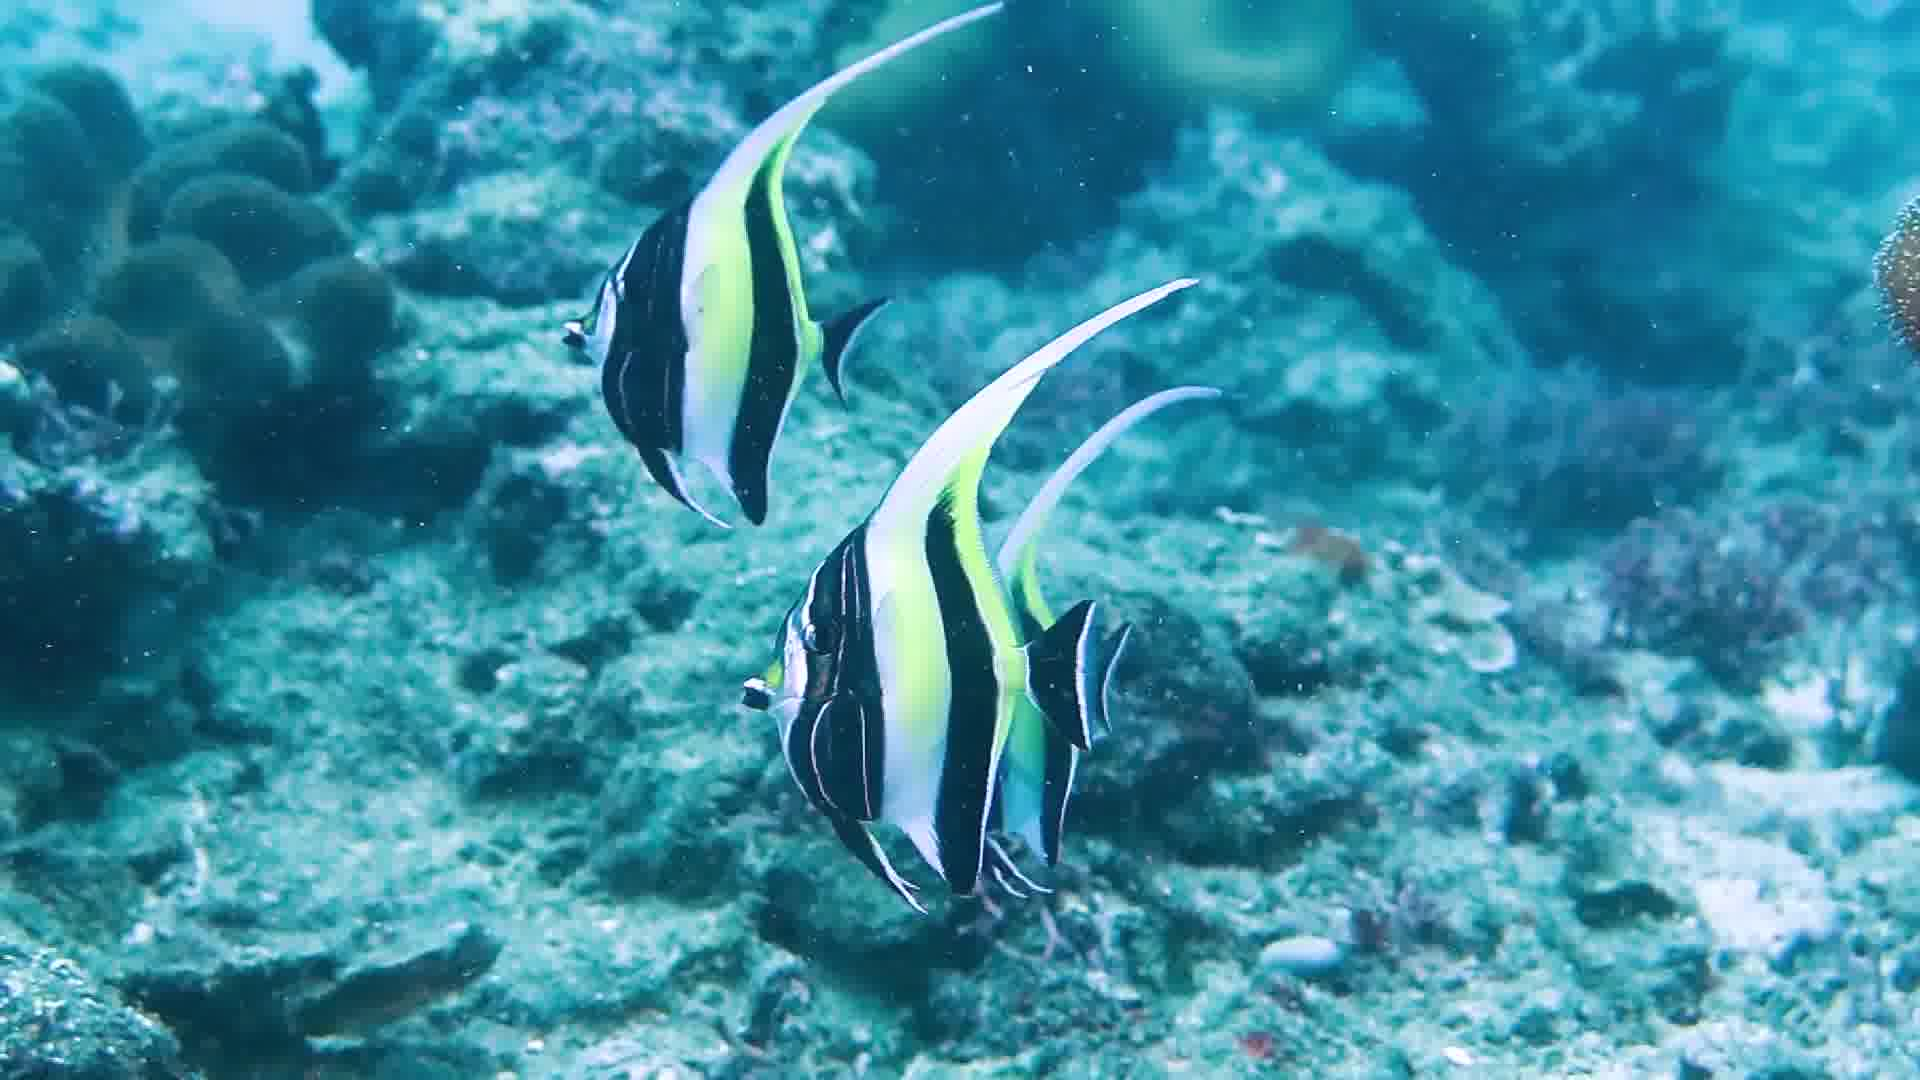Zanclus cornutus: (744, 495, 1040, 953), (564, 107, 860, 567)
